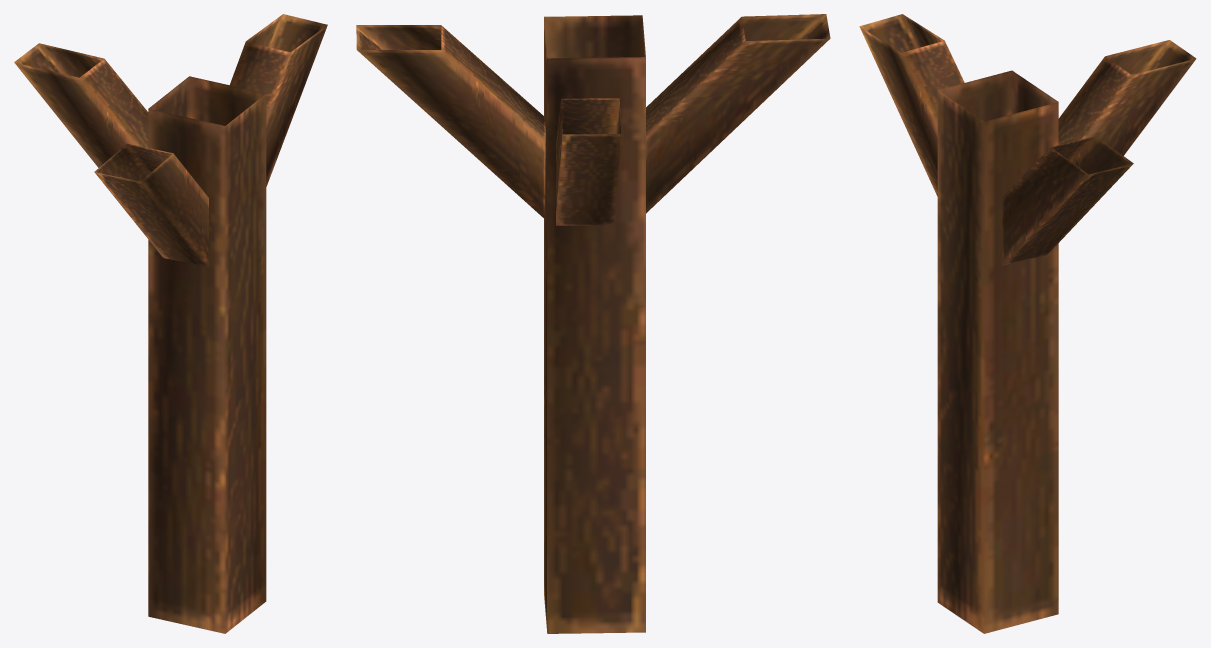
Rendered from SWORDLIGHT20_JAILPLATSUPPORT46.fbx.
The picture shows the model from 3 angles, left to right: view 1: azimuth 30°, elevation 25°; view 2: azimuth 150°, elevation 25°; view 3: azimuth 270°, elevation 25°; orthographic projection. The views are drawn at different scales.
Parts seen in each view (by area): view 1: SWORDLIGHT20_JAILPLATSUPPORT46; view 2: SWORDLIGHT20_JAILPLATSUPPORT46; view 3: SWORDLIGHT20_JAILPLATSUPPORT46.
Boxes of the visible parts, box(x1,y1,x2,y2) form: SWORDLIGHT20_JAILPLATSUPPORT46: box(14, 14, 327, 633); SWORDLIGHT20_JAILPLATSUPPORT46: box(356, 14, 830, 633); SWORDLIGHT20_JAILPLATSUPPORT46: box(859, 14, 1196, 633).
Size of the model in its own units: 17267 by 25856 by 15332.
Materials: 1 (1 with a texture image).
